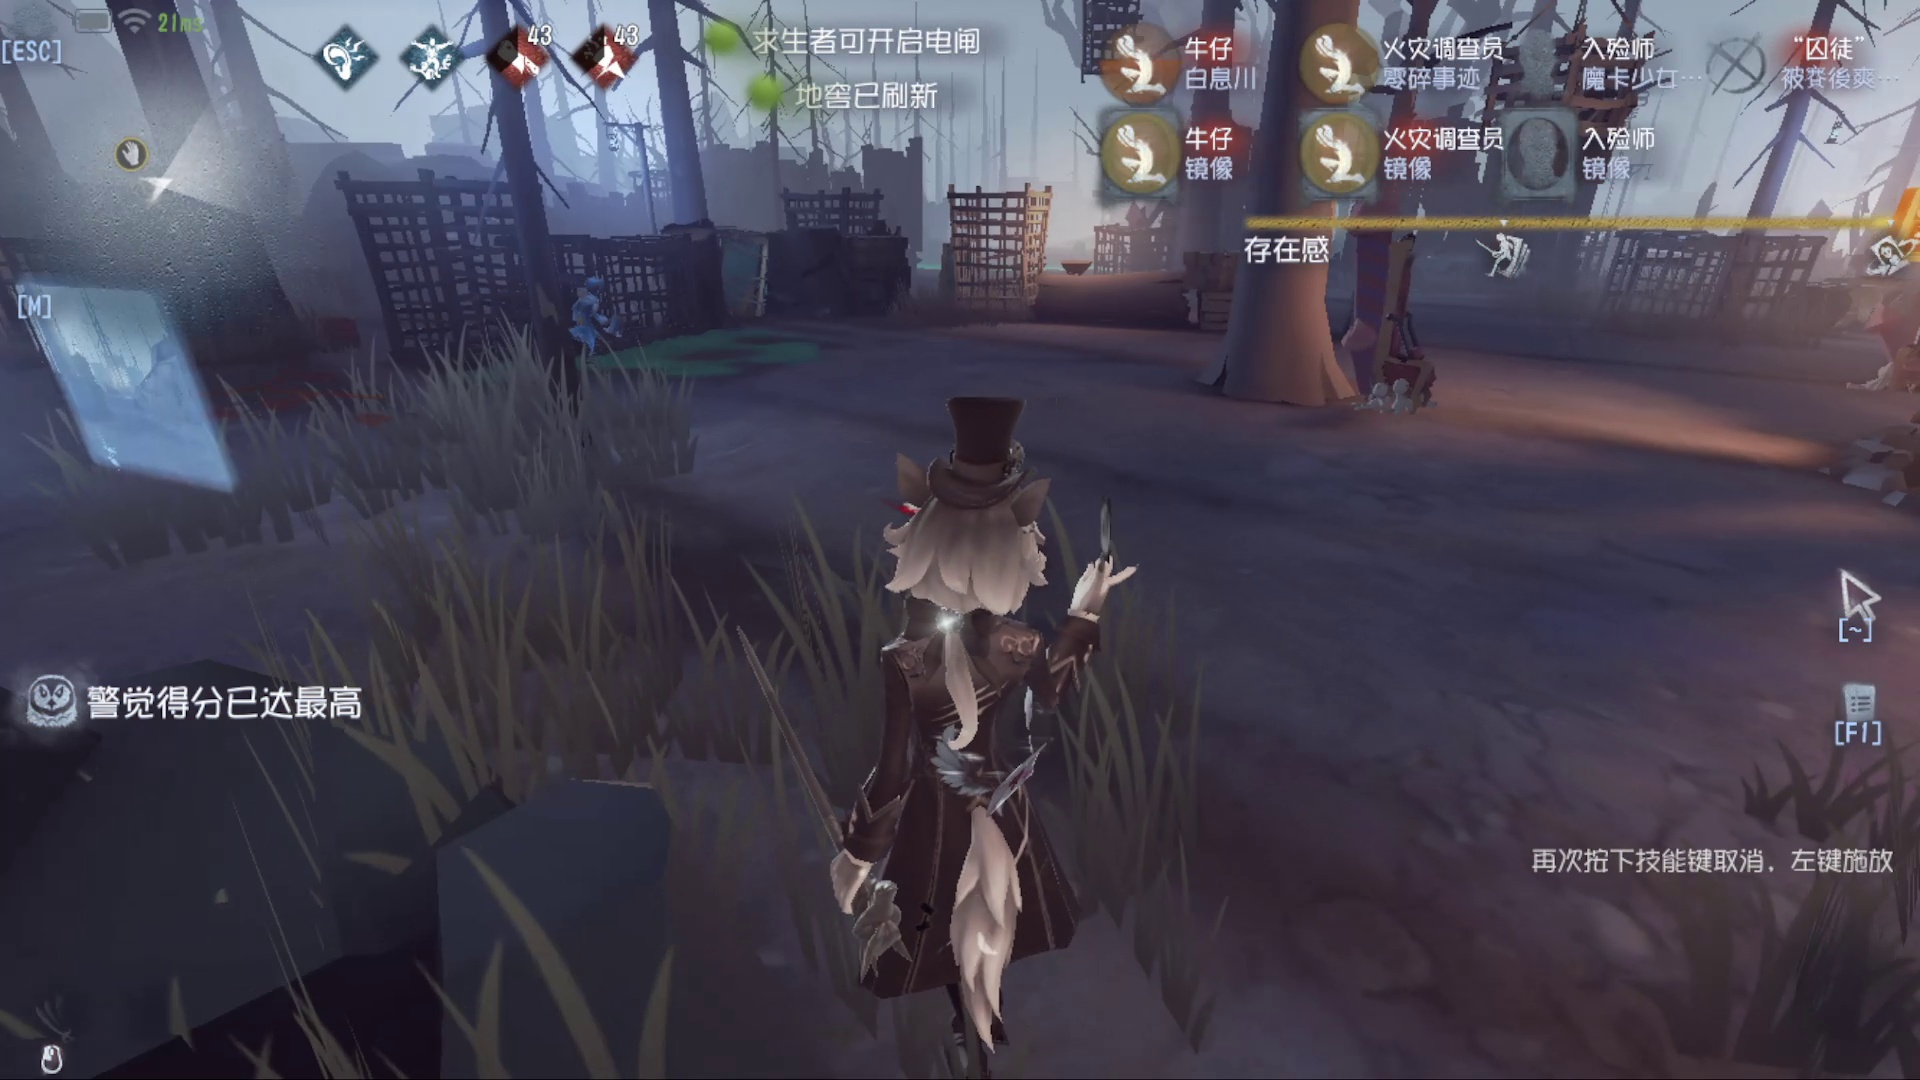木板: (723, 214, 782, 342)
求生者: (556, 266, 638, 372)
